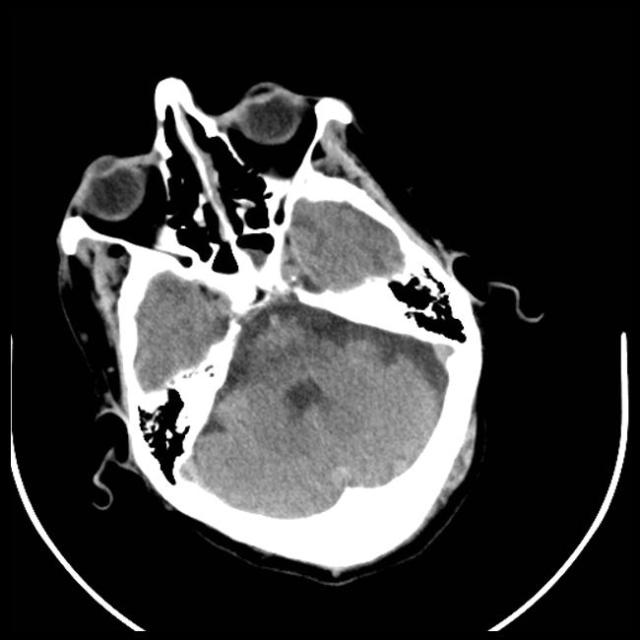lesion: (52, 73, 492, 582)
